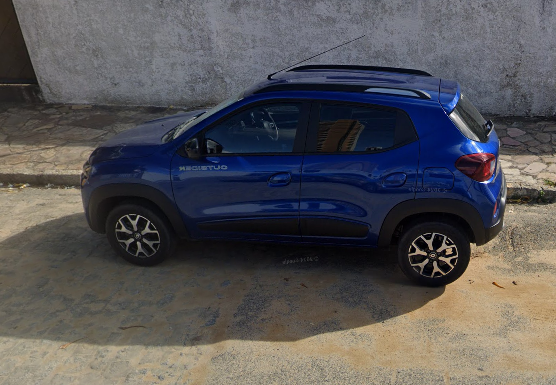car: (78, 32, 511, 290)
